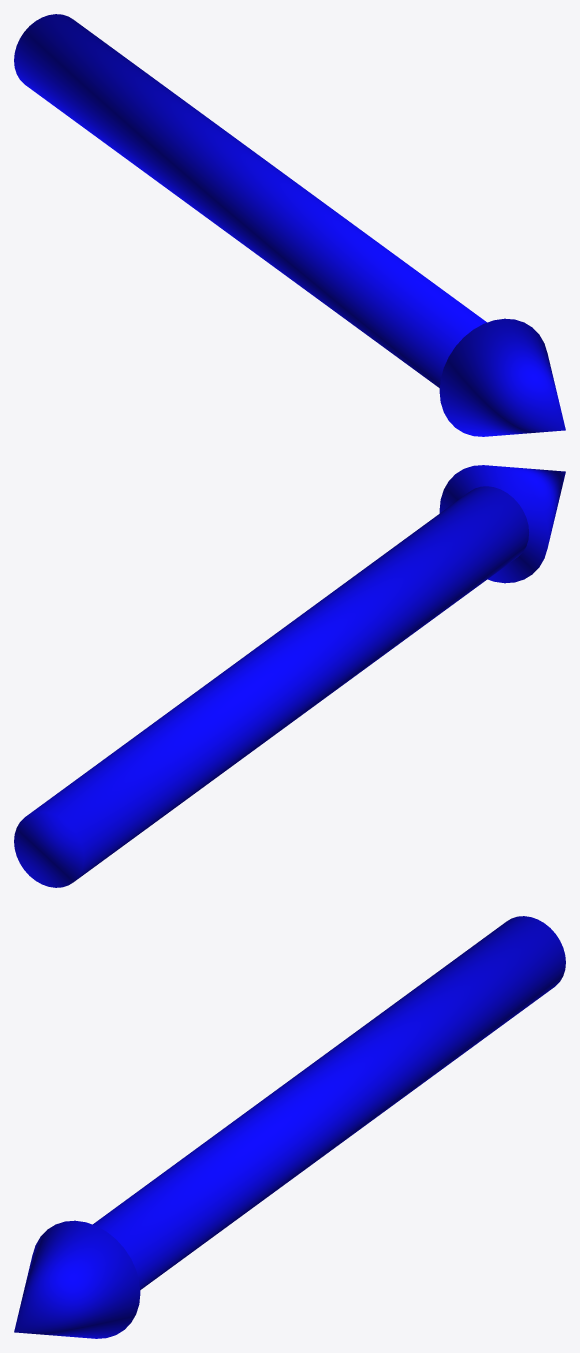
File: gizmo_loc_z.obj
The picture shows the model from 3 angles, top to bottom: view 1: azimuth 30°, elevation 25°; view 2: azimuth 150°, elevation 25°; view 3: azimuth 330°, elevation 25°; orthographic projection.
Parts seen in each view (by area): view 1: LocationGizmo.002; view 2: LocationGizmo.002; view 3: LocationGizmo.002.
Part boxes in pixels (x1,y1,x2,y2): LocationGizmo.002: (14, 14, 565, 436); LocationGizmo.002: (14, 465, 565, 887); LocationGizmo.002: (14, 916, 565, 1338).
Bounding box in the file's own units: 0.234 × 0.2361 × 1.92.
